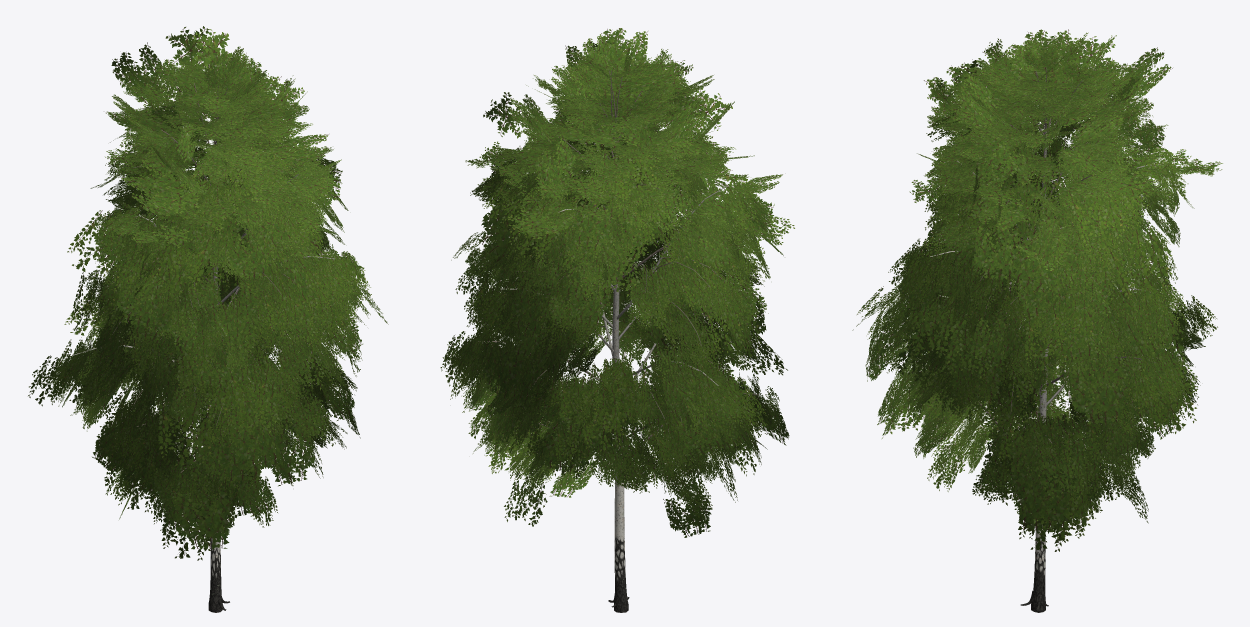
Rendered from mature-birch.glb.
The picture shows the model from 3 angles, left to right: view 1: azimuth 30°, elevation 25°; view 2: azimuth 150°, elevation 25°; view 3: azimuth 270°, elevation 25°; orthographic projection. The views are drawn at different scales.
Parts seen in each view (by area): view 1: leaves_lod1, trunk_lod1, branches_lod1; view 2: leaves_lod1, trunk_lod1, branches_lod1; view 3: leaves_lod1, trunk_lod1, branches_lod1.
Part boxes in pixels (x1=…): leaves_lod1: x1=28, y1=26, x2=388, y2=560; trunk_lod1: x1=208, y1=141, x2=229, y2=612; branches_lod1: x1=72, y1=79, x2=334, y2=472; leaves_lod1: x1=440, y1=28, x2=794, y2=537; trunk_lod1: x1=608, y1=142, x2=629, y2=612; branches_lod1: x1=478, y1=70, x2=759, y2=446; leaves_lod1: x1=852, y1=29, x2=1222, y2=551; trunk_lod1: x1=1020, y1=131, x2=1048, y2=612; branches_lod1: x1=898, y1=67, x2=1183, y2=443.
Size of the model in its own units: 10.96 by 18.04 by 11.07.
Materials: 3 (3 with a texture image).
